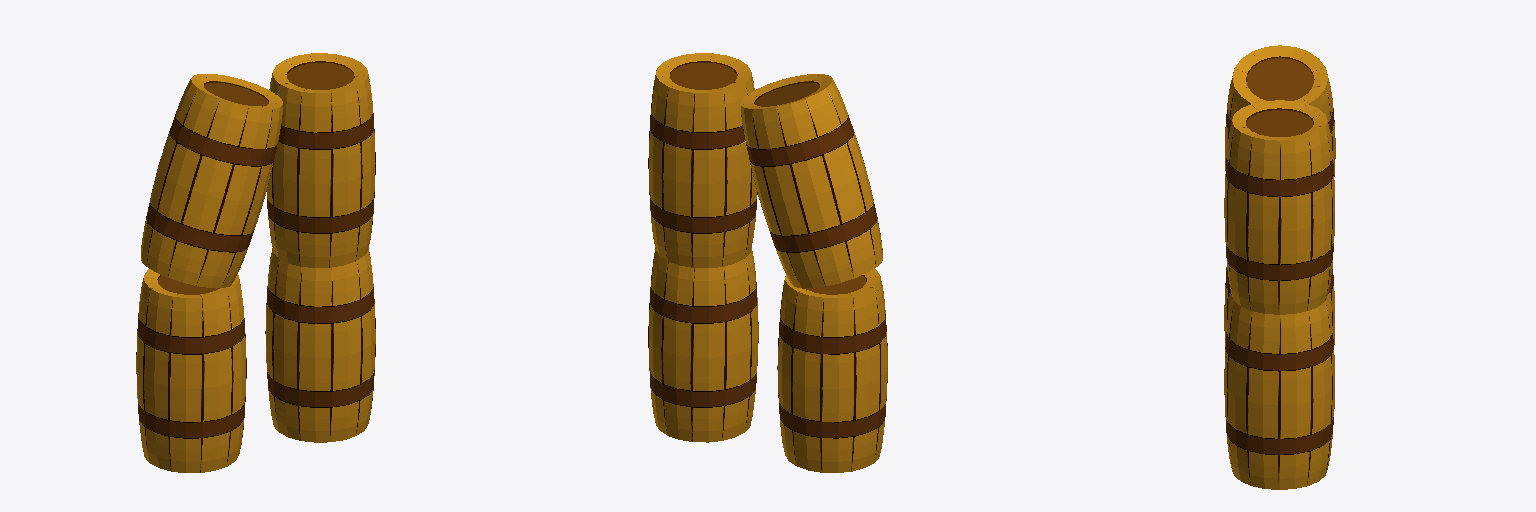
The picture shows the model from 3 angles: view 1: azimuth 30°, elevation 25°; view 2: azimuth 150°, elevation 25°; view 3: azimuth 270°, elevation 25°; orthographic projection.
Visible parts, largest first — view 1: Line006, Line001, Line004, Line005, Cylinder008, Cylinder012, Cylinder002; view 2: Line006, Line001, Line004, Line005, Cylinder008, Cylinder012, Cylinder002; view 3: Line004, Line005, Line006, Cylinder012, Cylinder008, Line001.
Boxes of the visible parts, box(x1,y1,x2,y2) form: Line006: box(141, 74, 282, 287); Line001: box(136, 269, 246, 472); Line004: box(267, 53, 375, 267); Line005: box(265, 248, 375, 442); Cylinder008: box(287, 63, 353, 89); Cylinder012: box(204, 82, 268, 105); Cylinder002: box(158, 275, 219, 294); Line006: box(740, 74, 882, 288); Line001: box(777, 269, 887, 472); Line004: box(648, 53, 757, 267); Line005: box(648, 248, 758, 442); Cylinder008: box(670, 63, 736, 89); Cylinder012: box(755, 83, 819, 106); Cylinder002: box(806, 275, 865, 294); Line004: box(1224, 100, 1334, 314); Line005: box(1224, 296, 1334, 489); Line006: box(1225, 45, 1335, 176); Cylinder012: box(1247, 58, 1313, 100); Cylinder008: box(1246, 110, 1312, 136); Line001: box(1224, 265, 1334, 346).
Bounding box in the file's own units: 1883 × 2907 × 808.
3 materials, 1 textured.